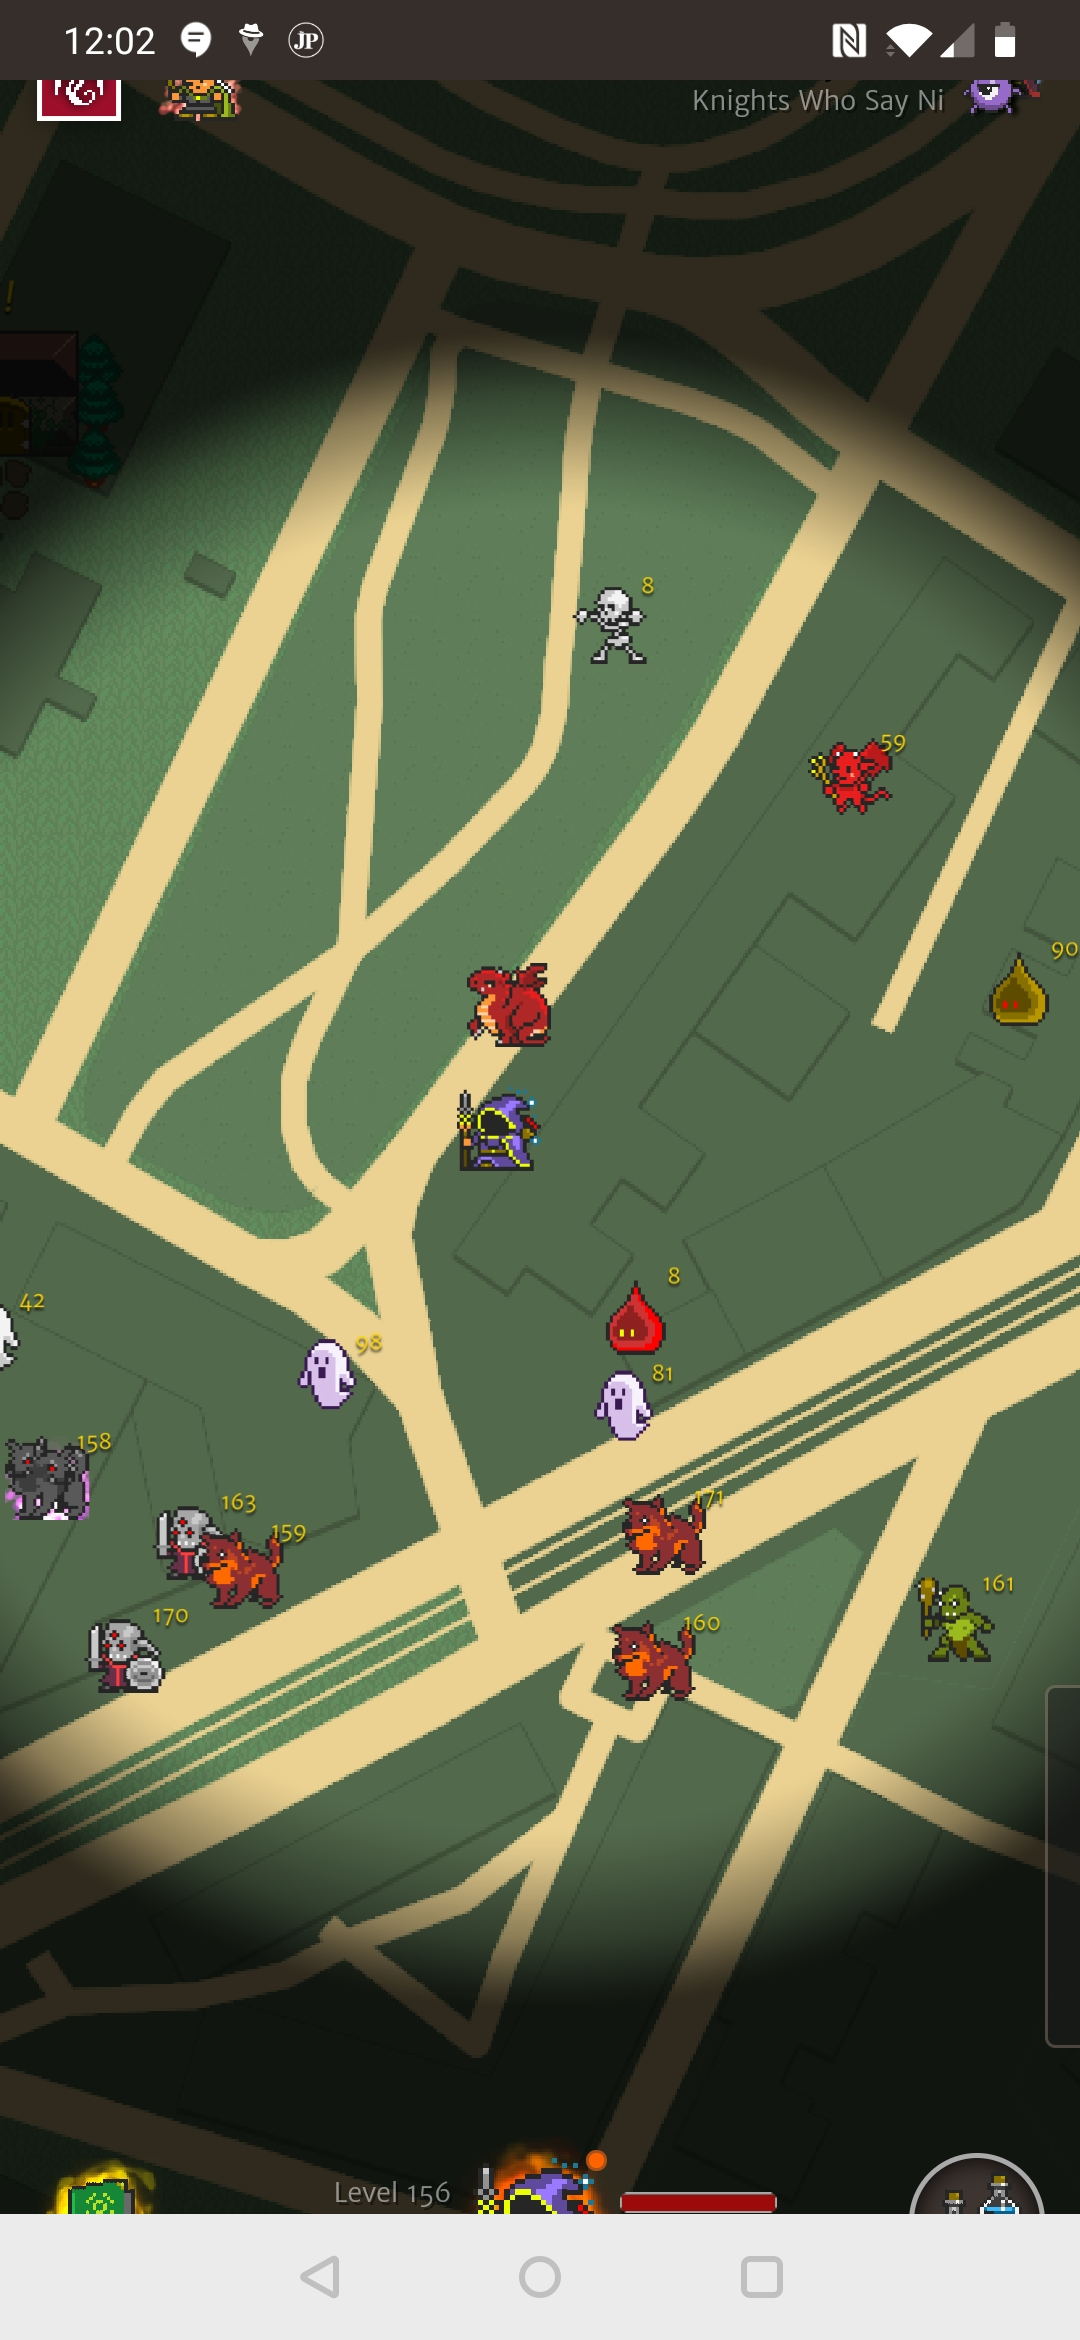monster: (795, 716, 929, 830), (567, 571, 691, 692), (905, 1561, 1026, 1682), (615, 1482, 739, 1592), (601, 1613, 732, 1713), (70, 1606, 208, 1702), (574, 1361, 695, 1461), (591, 1261, 698, 1358), (298, 1330, 401, 1427), (977, 937, 1080, 1032)
player: (443, 1082, 563, 1189)
